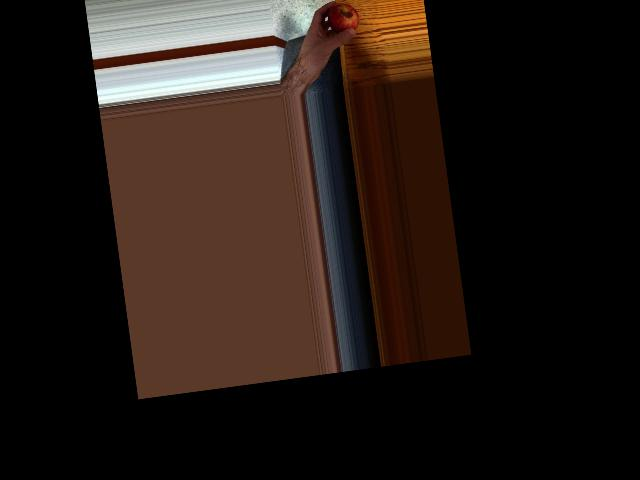apple: (324, 1, 361, 39)
